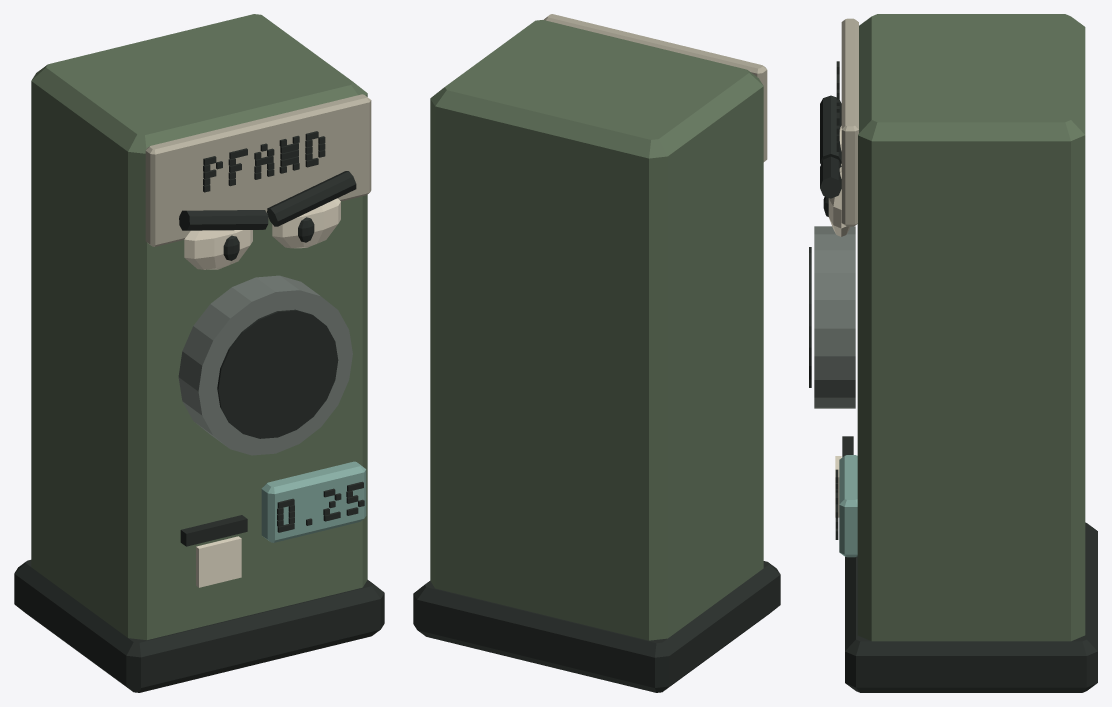
The model's file is pfand-machine.glb.
3 renders of one model, left to right at view 1: azimuth 30°, elevation 25°; view 2: azimuth 150°, elevation 25°; view 3: azimuth 270°, elevation 25°, orthographic. The views are drawn at different scales.
Visible parts, largest first — view 1: pfand-machine; view 2: pfand-machine; view 3: pfand-machine.
Boxes of the visible parts, x1,y1,x2,y2 form: pfand-machine: [14, 14, 384, 692]; pfand-machine: [413, 14, 780, 692]; pfand-machine: [809, 14, 1097, 692].
Bounding box in the file's own units: 0.97 × 1.97 × 0.913.
